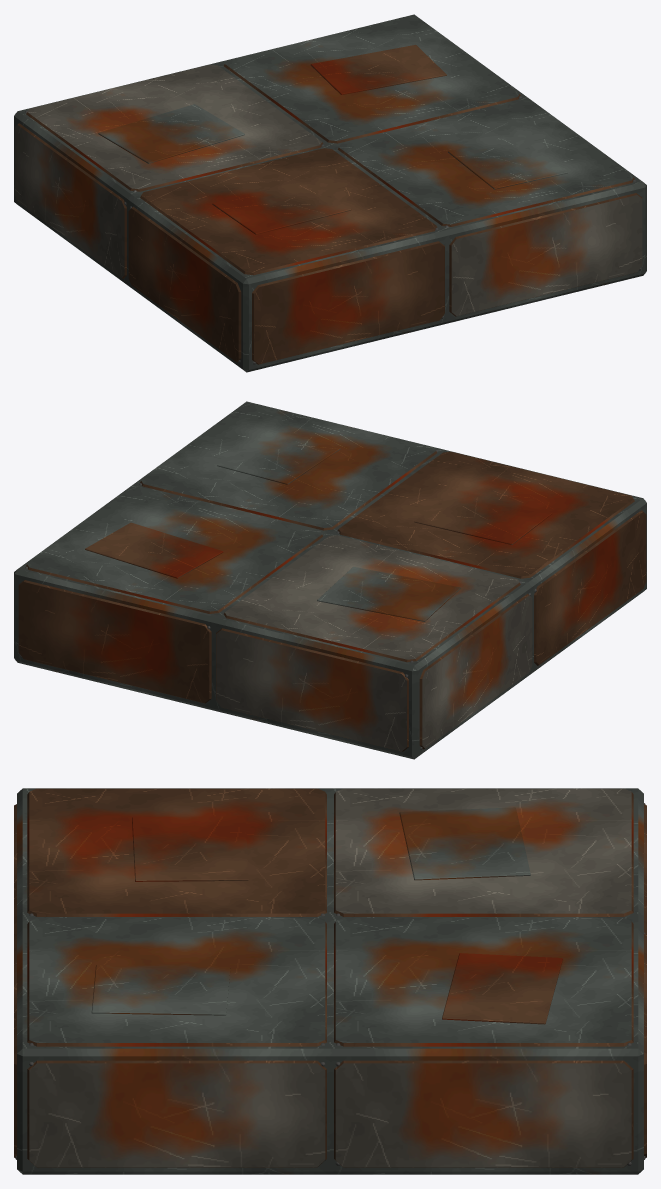
The model's file is R4B_Plate2x2.glb.
3 views of the same model, one above another, from view 1: azimuth 30°, elevation 25°; view 2: azimuth 150°, elevation 25°; view 3: azimuth 270°, elevation 25° (orthographic). The views are drawn at different scales.
Visible parts, largest first — view 1: R4B_Plate2x2; view 2: R4B_Plate2x2; view 3: R4B_Plate2x2.
Part boxes in pixels (bbox=[...]): R4B_Plate2x2: bbox=[14, 14, 646, 372]; R4B_Plate2x2: bbox=[14, 401, 646, 759]; R4B_Plate2x2: bbox=[14, 788, 646, 1174].
Bounding box in the file's own units: 1.07 × 0.248 × 1.07.
Materials: 4 (4 with a texture image).
